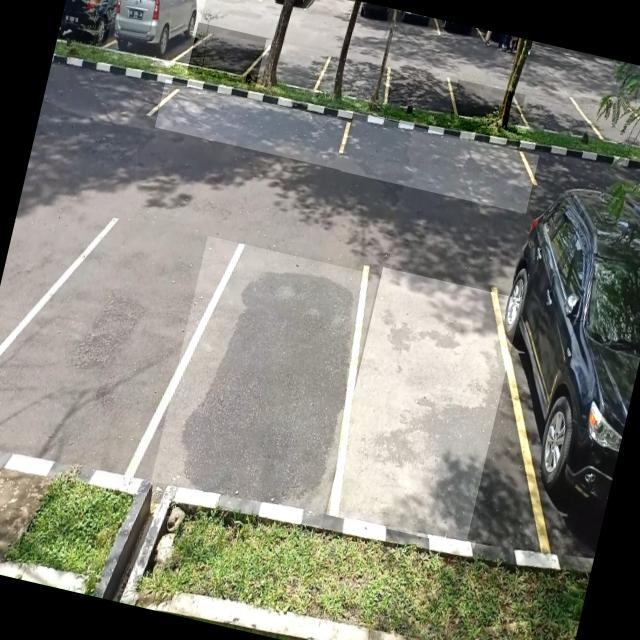empty: (148, 236, 378, 528), (0, 193, 209, 487), (326, 266, 531, 548), (340, 112, 539, 214), (154, 79, 353, 170), (187, 22, 268, 87), (448, 79, 530, 142), (256, 39, 330, 102), (316, 59, 393, 118), (383, 71, 459, 129), (516, 94, 592, 148)
occupied: (467, 223, 640, 567), (103, 0, 205, 74)
